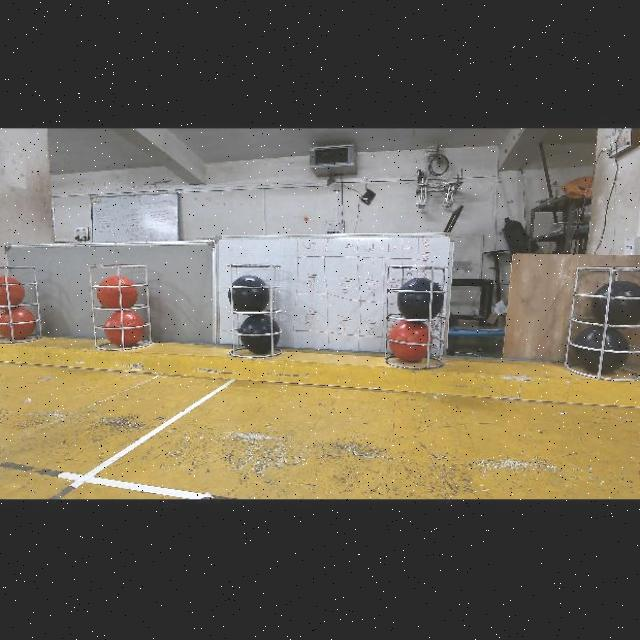P: (572, 326, 630, 375), (591, 281, 640, 326), (397, 278, 444, 319), (239, 314, 281, 356), (228, 276, 270, 313)
R: (388, 321, 428, 363), (104, 312, 145, 348), (97, 277, 139, 309), (0, 308, 35, 340), (0, 276, 25, 307)
S: (87, 261, 159, 349), (1, 263, 54, 355)
